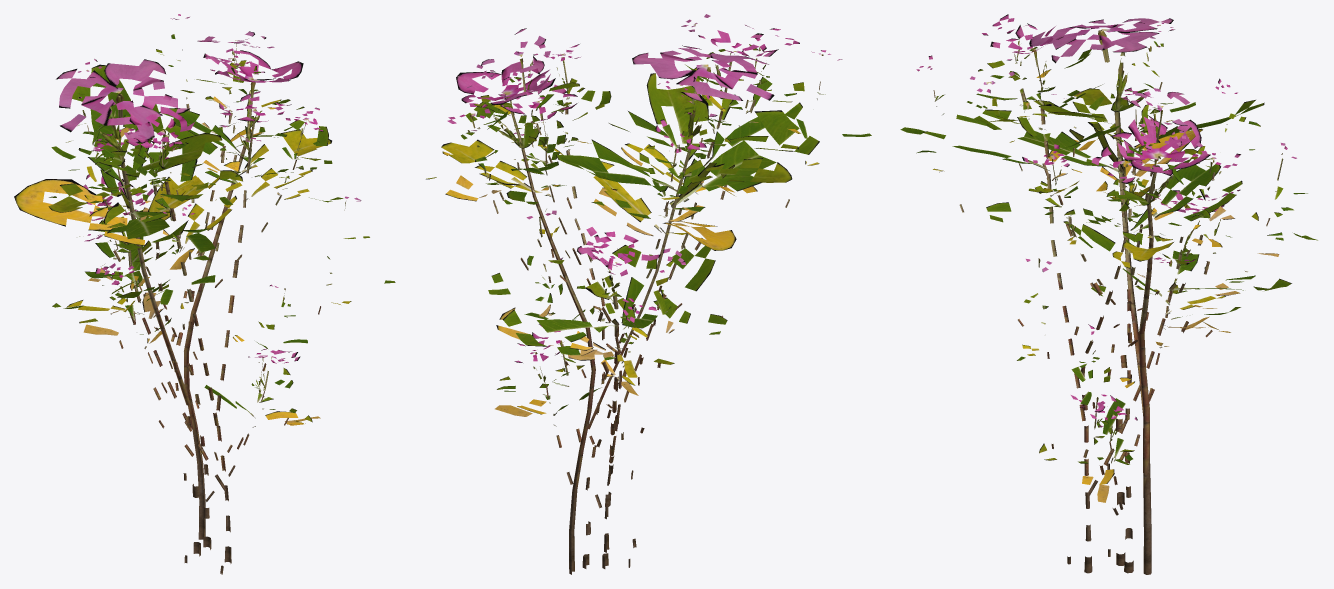
File: periwinkle_plant.glb
3 renders of one model, left to right at view 1: azimuth 30°, elevation 25°; view 2: azimuth 150°, elevation 25°; view 3: azimuth 270°, elevation 25°, orthographic. The views are drawn at different scales.
Size of the model in its own units: 0.2599 by 0.4 by 0.3048.
1 material, 1 textured.
